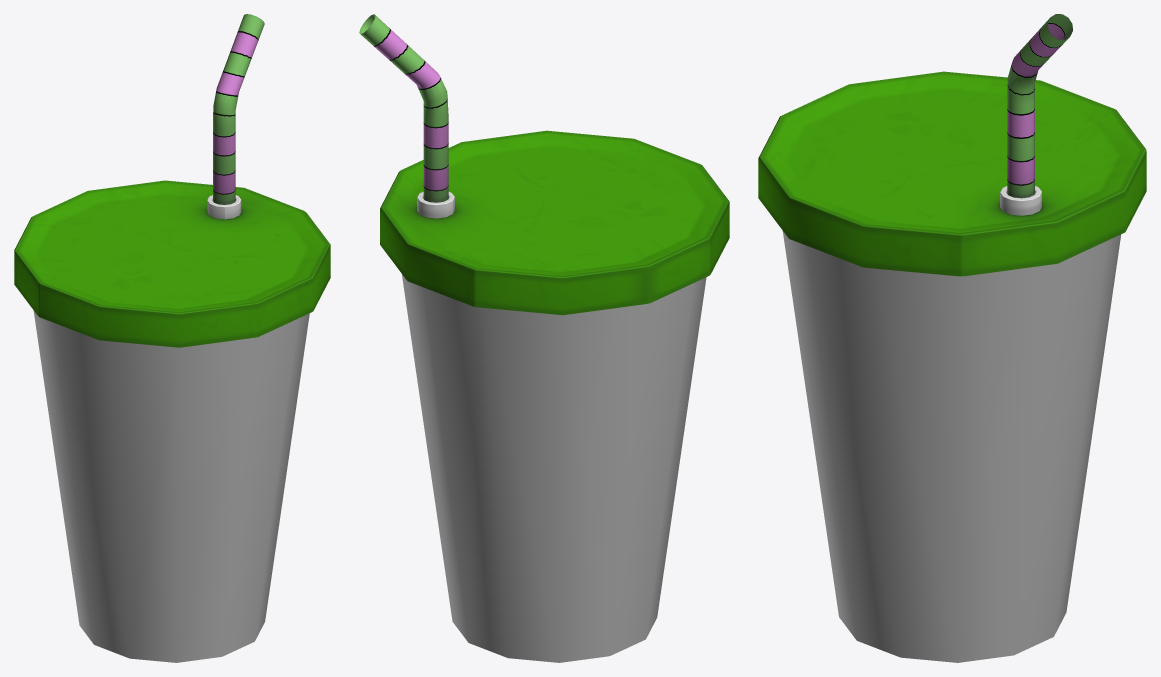
Rendered from Mr_Smoothie.obj.
The picture shows the model from 3 angles, left to right: view 1: azimuth 30°, elevation 25°; view 2: azimuth 150°, elevation 25°; view 3: azimuth 270°, elevation 25°; orthographic projection. The views are drawn at different scales.
Visible parts, largest first — view 1: Smoothie; view 2: Smoothie; view 3: Smoothie.
Boxes of the visible parts, bbox=[...] form: Smoothie: bbox=[14, 14, 330, 662]; Smoothie: bbox=[359, 14, 729, 662]; Smoothie: bbox=[758, 14, 1146, 662].
Bounding box in the file's own units: 2.31 × 4.42 × 2.31.
